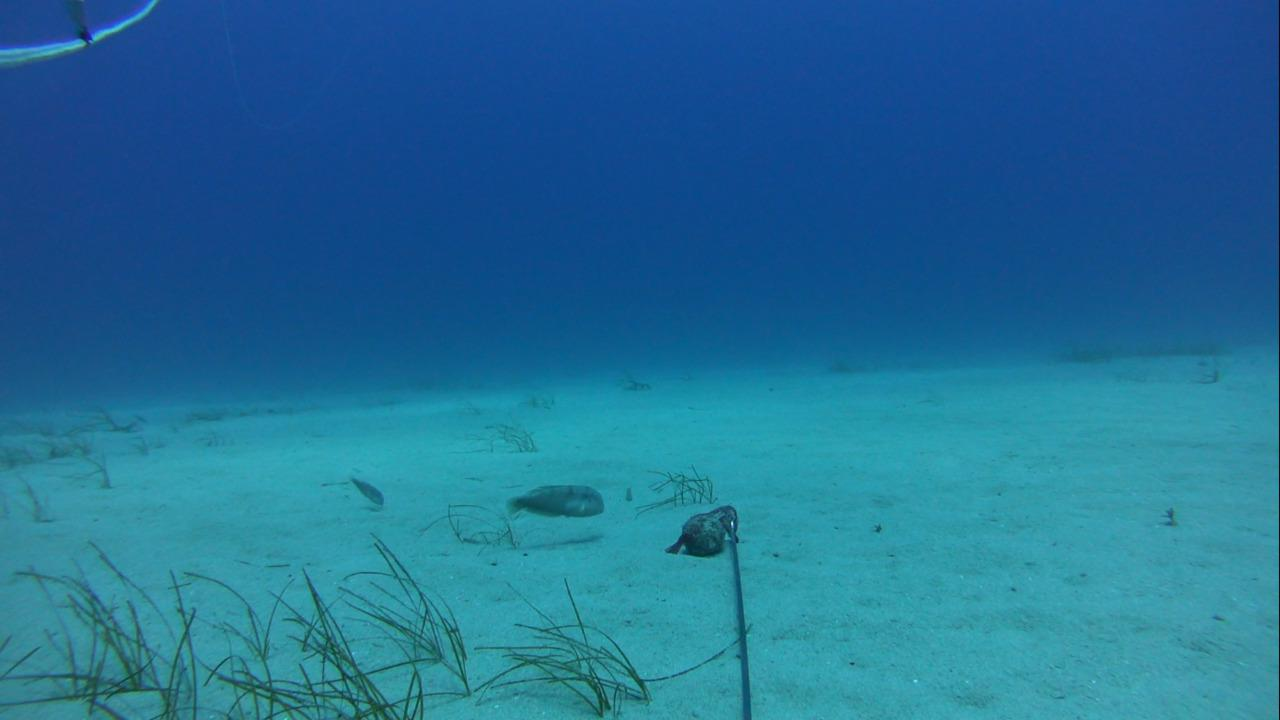raor: (504, 479, 608, 523), (343, 467, 395, 512)
